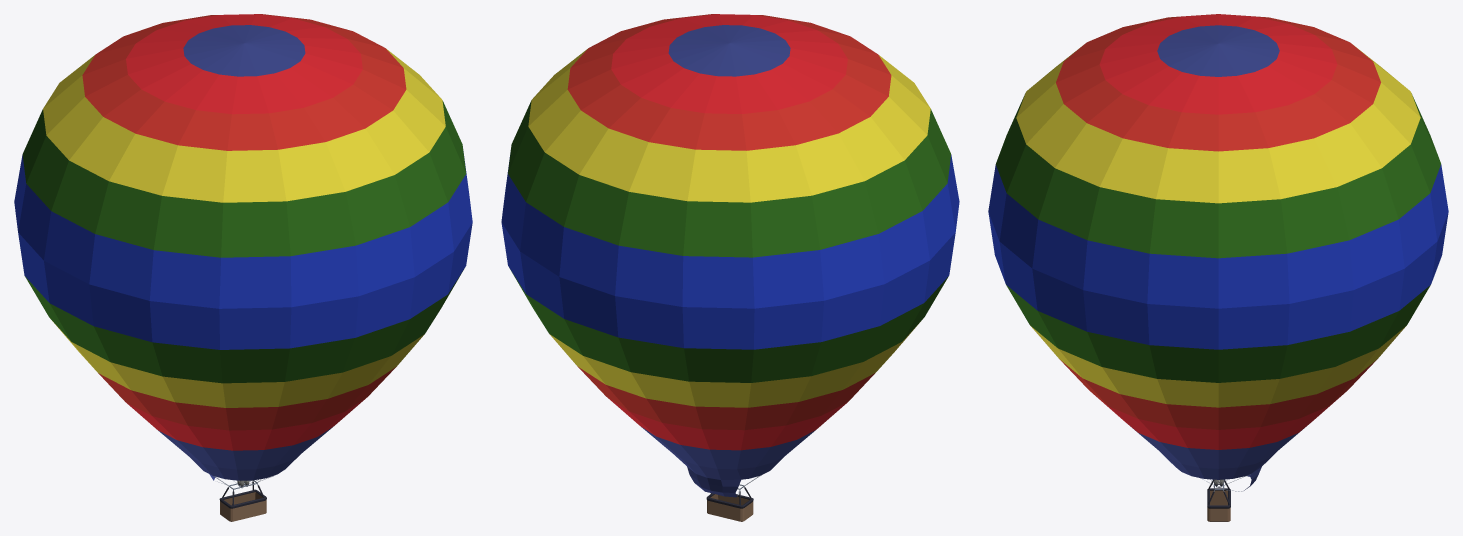
Rendered from HotAirBallon_Big_01.fbx.
3 renders of one model, left to right at view 1: azimuth 30°, elevation 25°; view 2: azimuth 150°, elevation 25°; view 3: azimuth 270°, elevation 25°, orthographic.
Visible parts, largest first — view 1: HotAirBallon_Big_01; view 2: HotAirBallon_Big_01; view 3: HotAirBallon_Big_01.
Boxes of the visible parts, box(x1,y1,x2,y2) form: HotAirBallon_Big_01: box(14, 14, 472, 521); HotAirBallon_Big_01: box(501, 14, 959, 521); HotAirBallon_Big_01: box(988, 14, 1448, 521).
Bounding box in the file's own units: 32.13 × 36.26 × 32.13.
